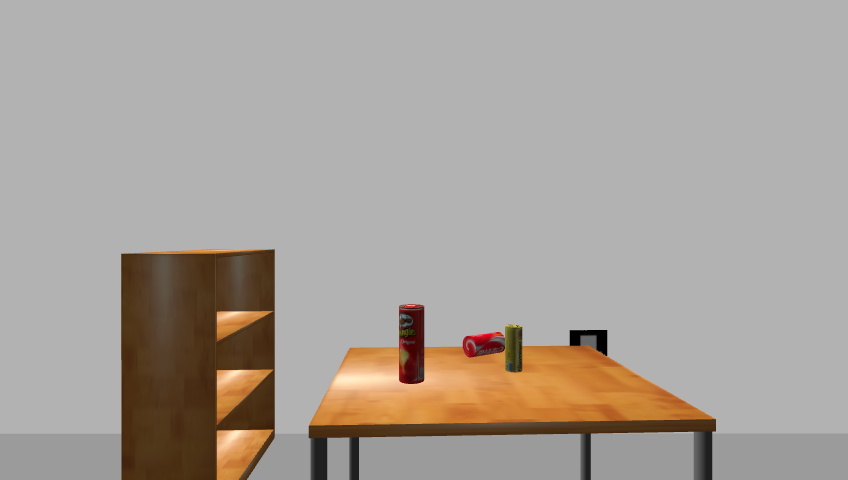aruco marker: (565, 329, 611, 361)
biscuits pack: (504, 324, 524, 374)
bookshelf: (115, 246, 282, 480)
coke can: (460, 332, 507, 359)
dinner table: (303, 343, 723, 480)
pringles can: (397, 303, 427, 386)
